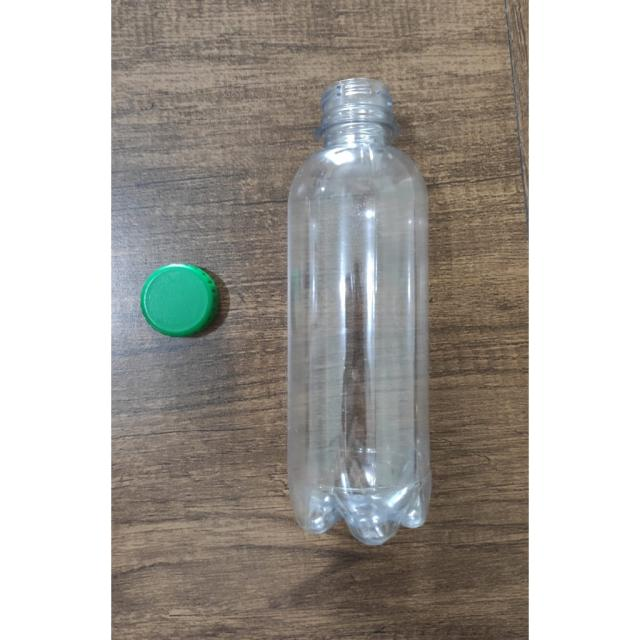bottom: (288, 464, 436, 542)
cap: (140, 254, 220, 347)
no_cap: (306, 78, 410, 148)
